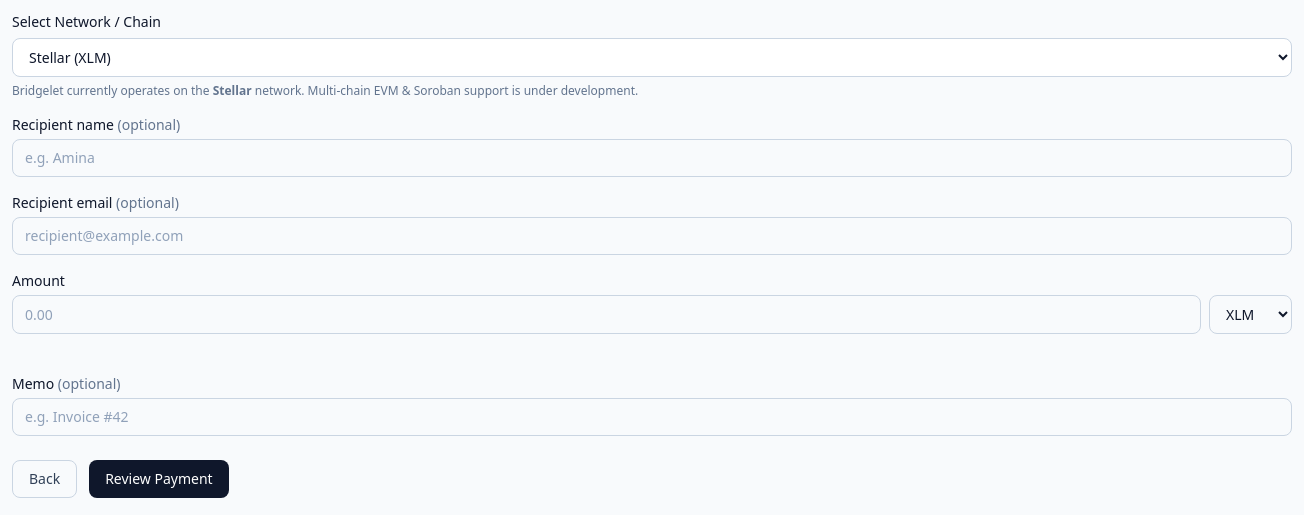
it: DetailsStep › updates the conversion as the amount changes
Type "10" into the number field labelled "Amount" at (606, 314), box [12, 295, 1201, 334]
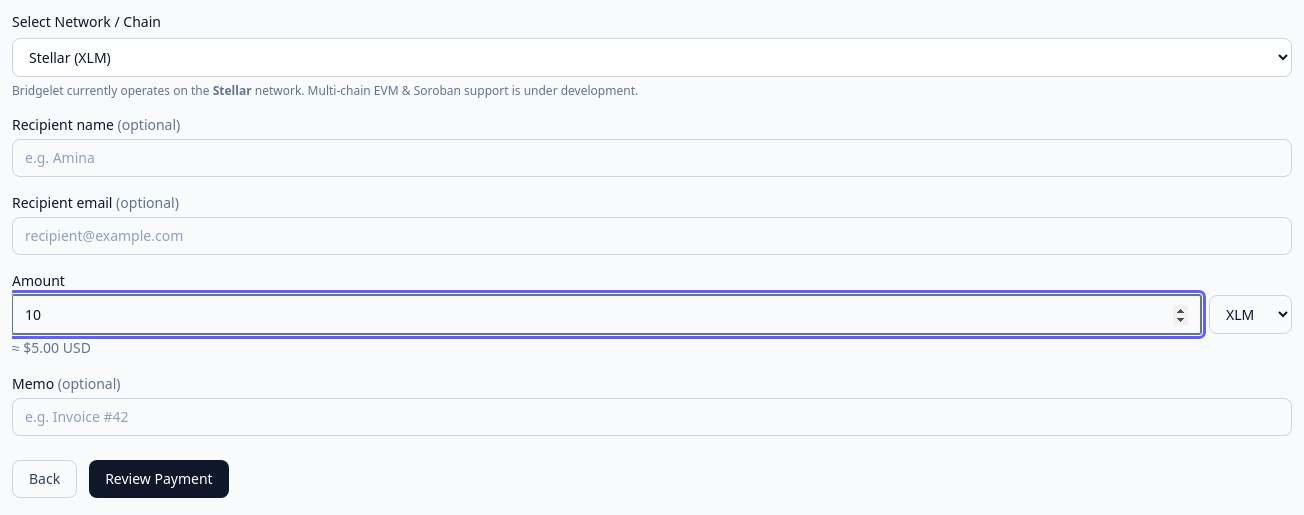
Check: the text "≈ $5.00 USD" is shown, box [12, 337, 275, 357]
Replace the text in the number field labelled "Amount" with "20" at (606, 314), box [12, 295, 1201, 334]
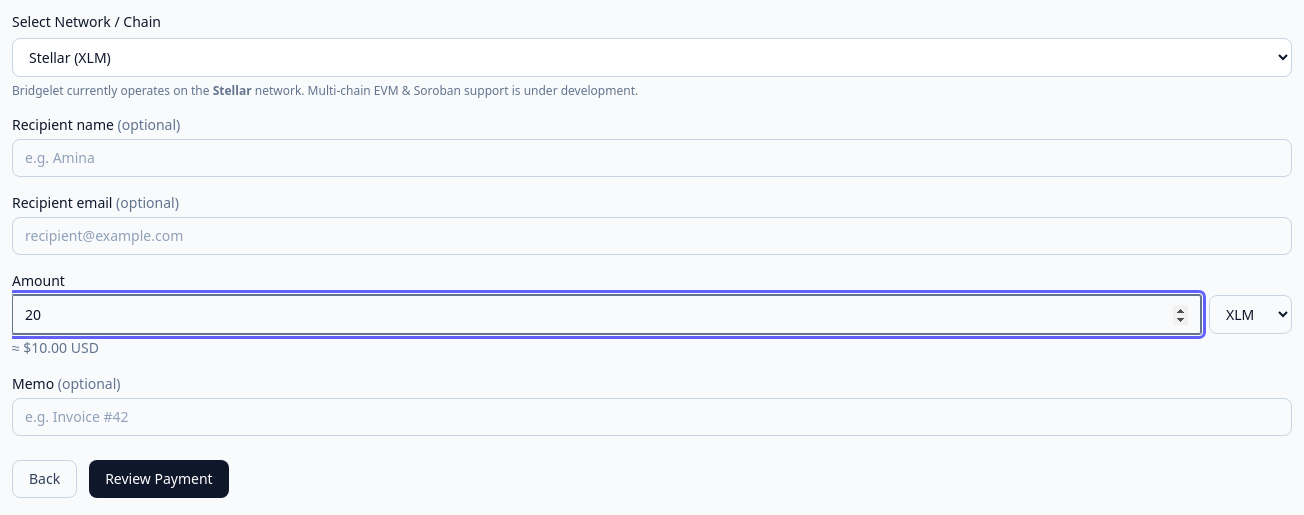
Check: the text "≈ $10.00 USD" is shown, box [12, 337, 283, 357]
